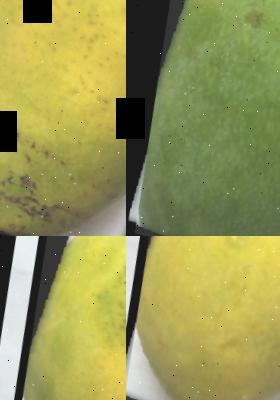PartiallyRipe: (0, 0, 126, 236), (126, 236, 280, 400), (0, 236, 126, 400)
Unripe: (126, 0, 280, 236)
